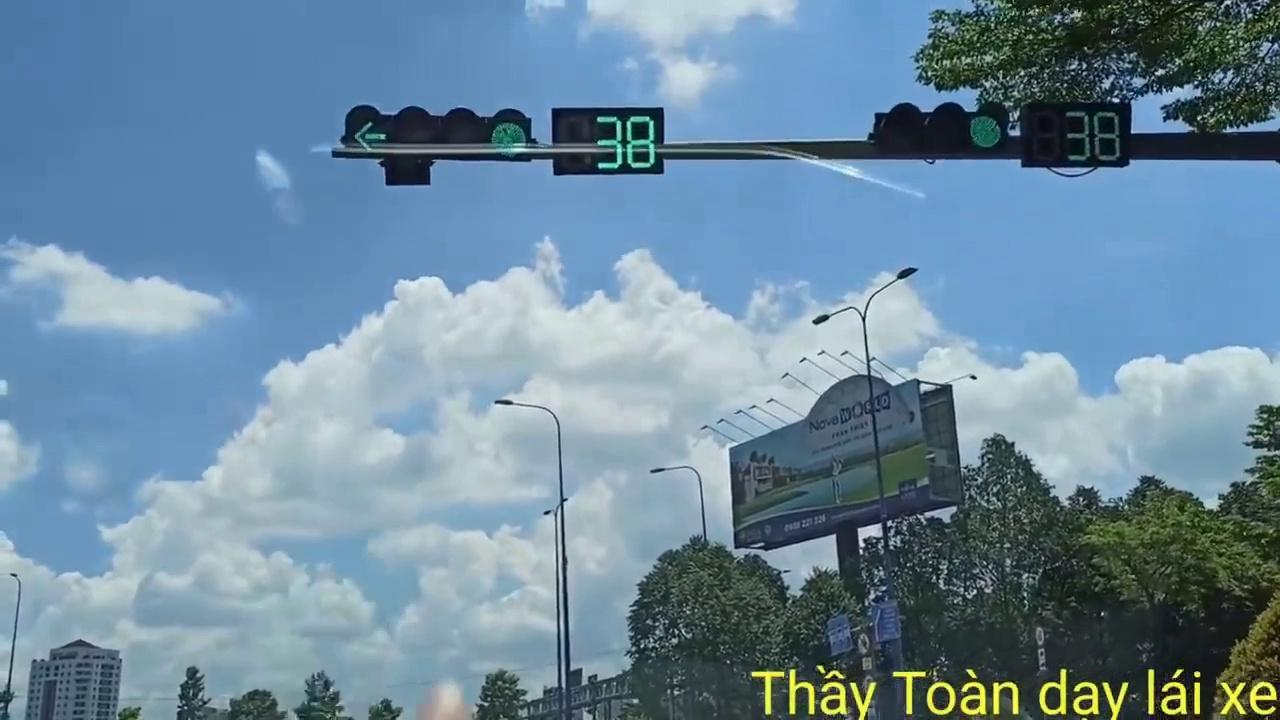Chỉ hướng đường: (870, 603, 904, 642)
Cấm xe máy: (855, 631, 872, 656)
Làn đường cho từng xe: (825, 614, 853, 654)
